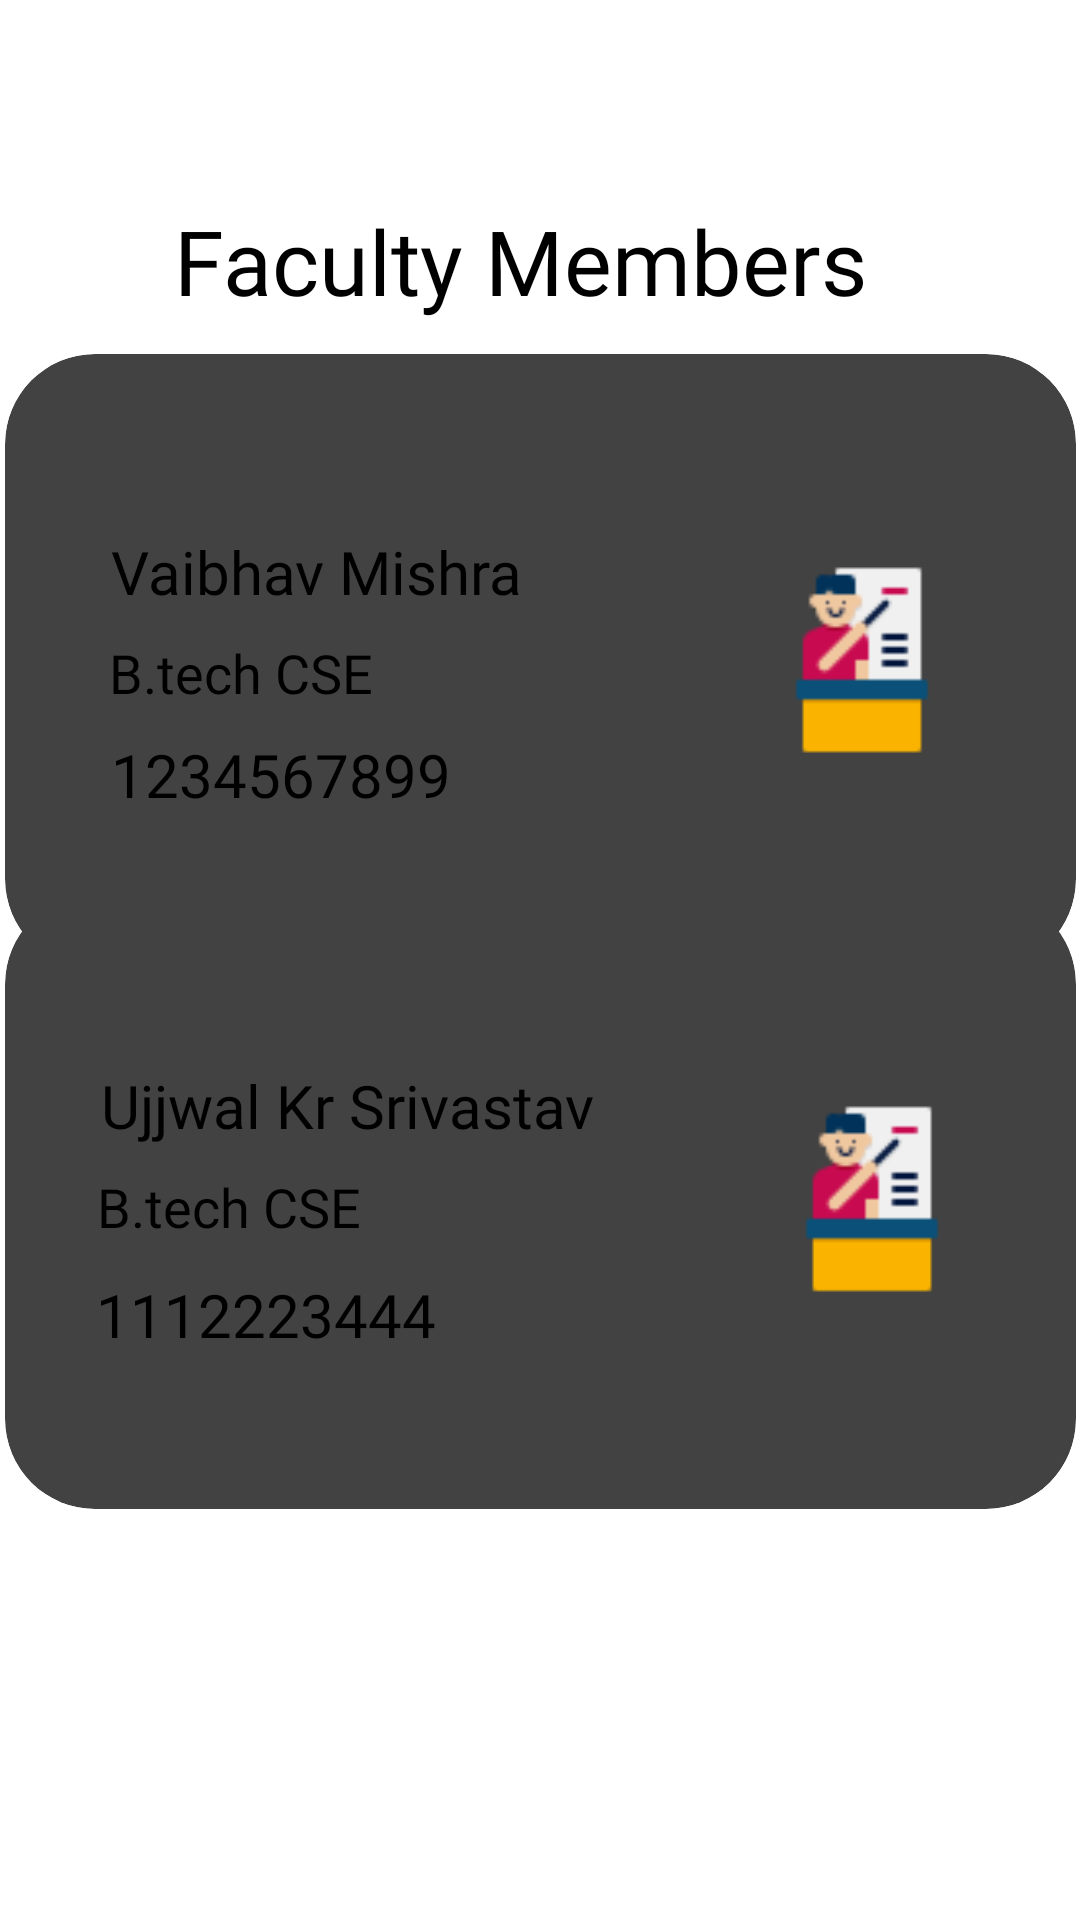

Where icons sit on this 1080*1920 app screen, as (x1, y1, x2, y2):
faculty: (796, 567, 928, 753), (806, 1106, 938, 1292)
